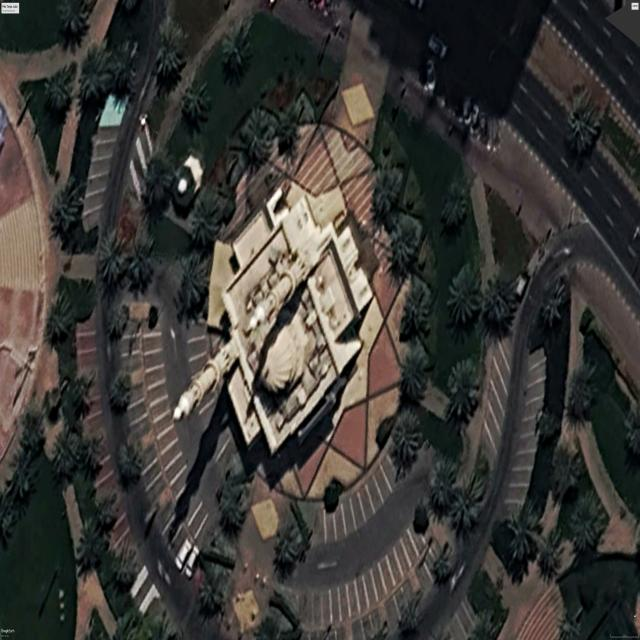mosque: (173, 189, 372, 453)
